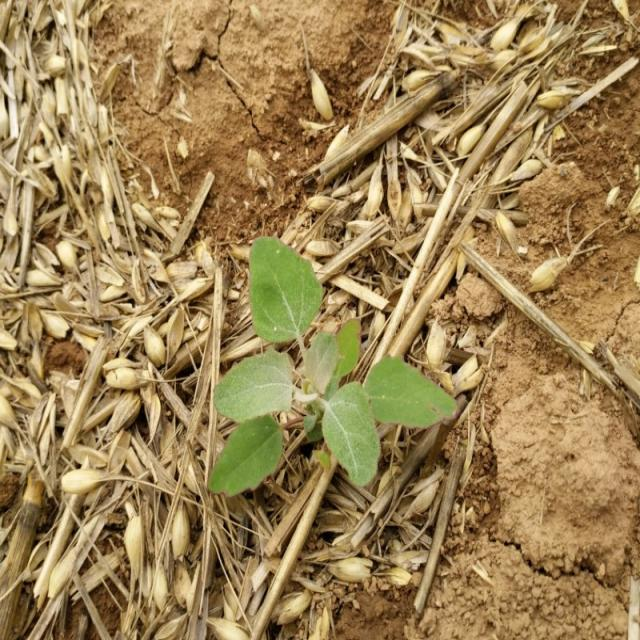ca: (211, 238, 456, 496)
